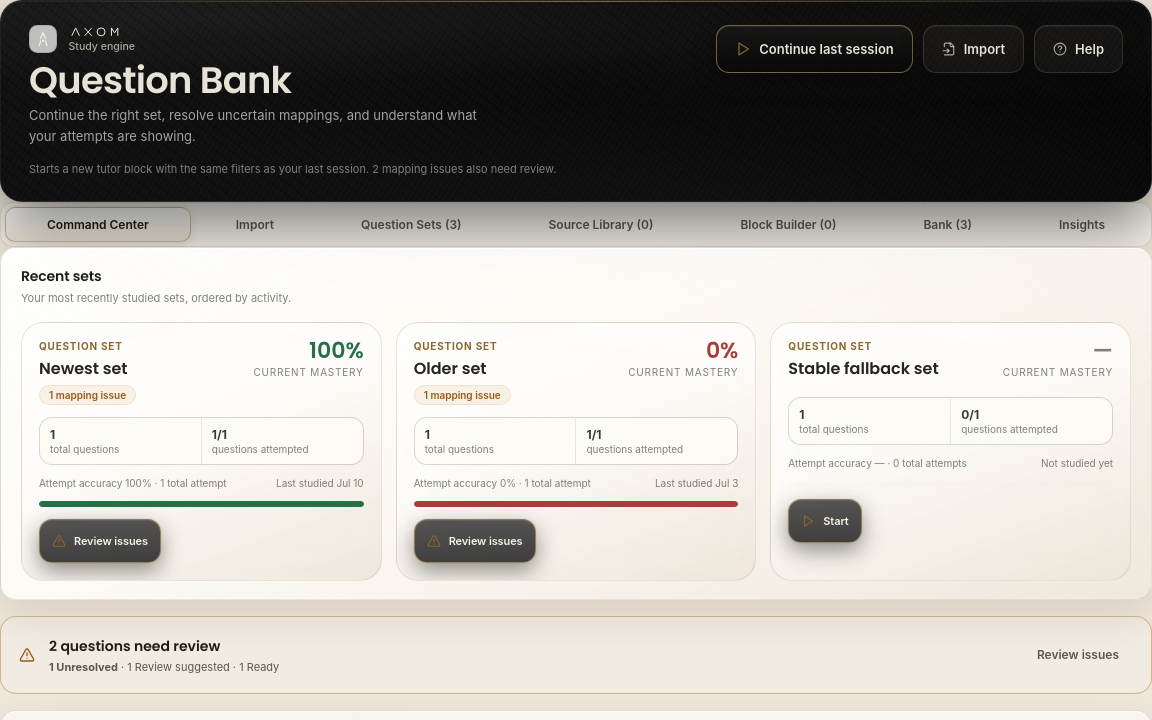
Test: QuestionWorkspacePage returning state › prioritizes continuation, recent sets, mapping review, and explicit metrics
Check: the button "Continue last session" is shown, box [716,25,913,73]
Check: the text "Starts a new tutor block with the same filters" is shown, box [29,162,556,176]
Click the button "Review issues" in the row of "Ready". click: click(1078, 655)
box: [1023,633,1133,677]
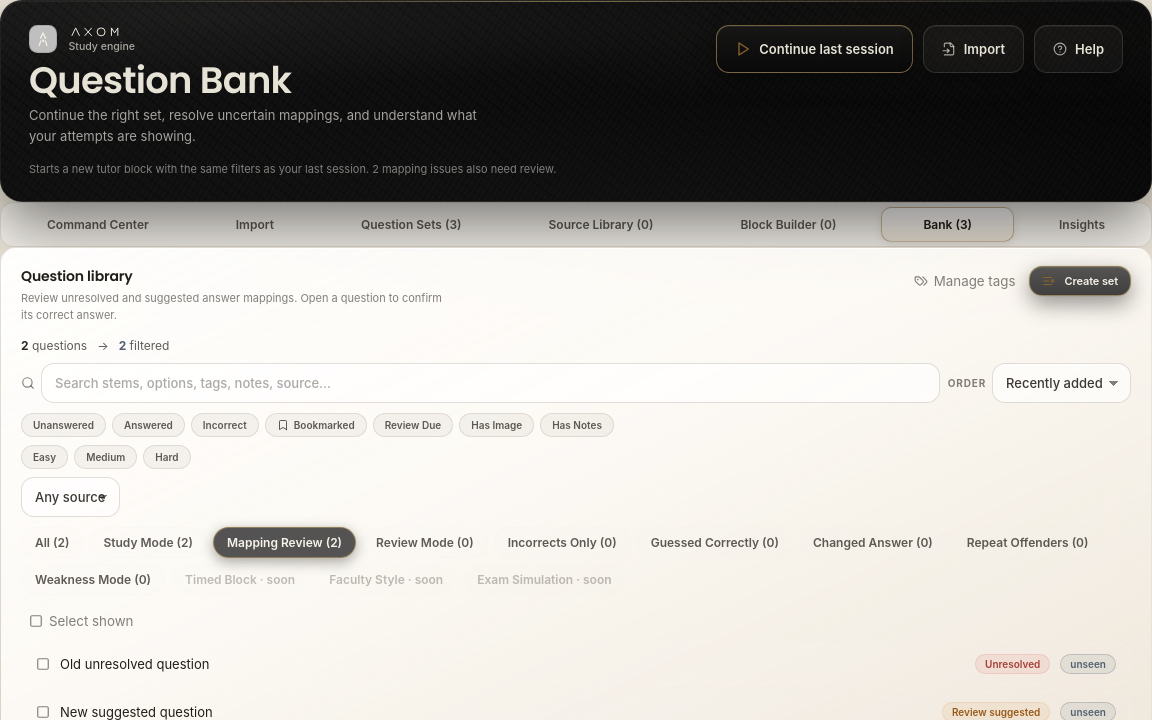
Check: the button "Mapping Review (2)" is shown, box [213,527,356,558]
Check: the button "Old unresolved question" is shown, box [60,656,965,672]
Check: the button "New suggested question" is shown, box [60,704,932,719]
